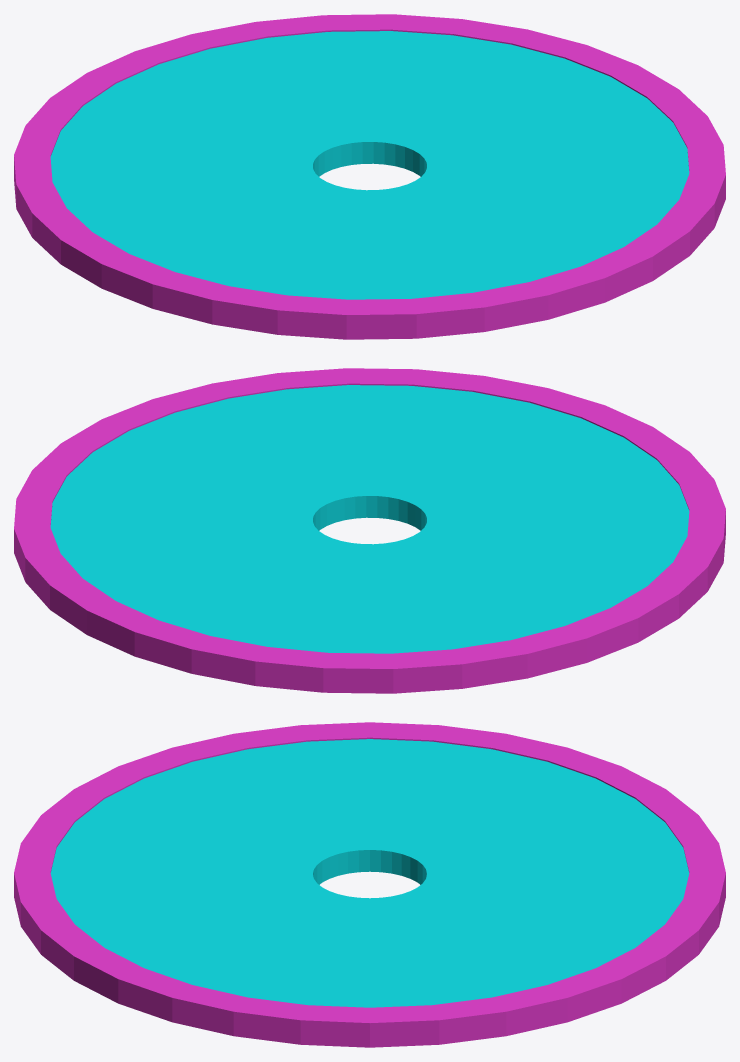
3 renders of one model, top to bottom at view 1: azimuth 30°, elevation 25°; view 2: azimuth 150°, elevation 25°; view 3: azimuth 270°, elevation 25°, orthographic.
Visible parts, largest first — view 1: Cylinder, Cylinder.003; view 2: Cylinder, Cylinder.003; view 3: Cylinder, Cylinder.003.
Part boxes in pixels (x1,y1,x2,y2): Cylinder: (50,31,689,299); Cylinder.003: (14,14,725,339); Cylinder: (50,385,689,653); Cylinder.003: (14,368,725,693); Cylinder: (50,739,689,1007); Cylinder.003: (14,722,725,1047).
Bounding box in the file's own units: 6275 × 239 × 6275.
